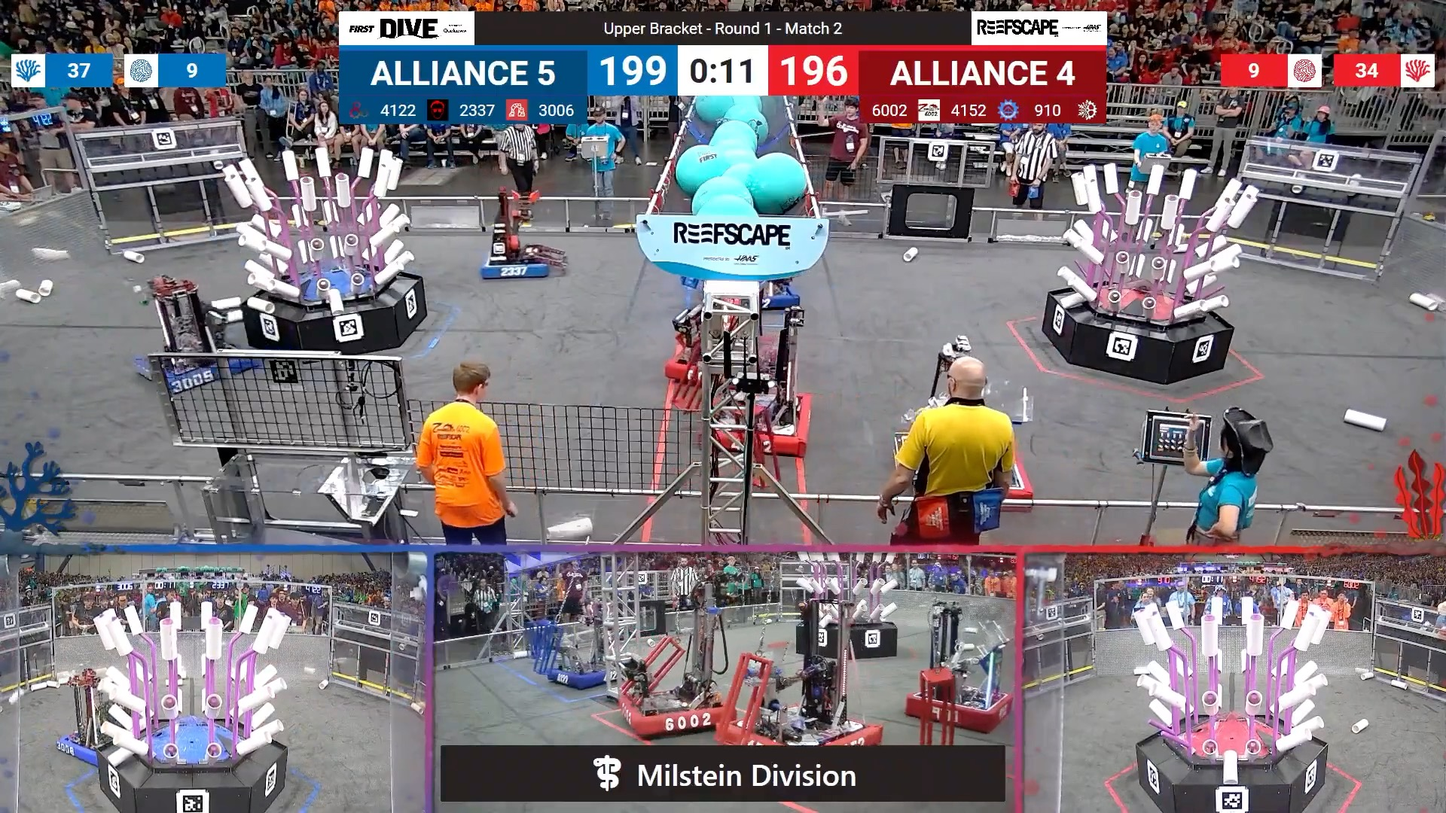bumpers: (132, 344, 255, 394), (726, 714, 883, 748), (901, 681, 1017, 726), (605, 694, 733, 733), (53, 729, 138, 769), (472, 245, 560, 283), (537, 662, 618, 689), (750, 281, 804, 310)
